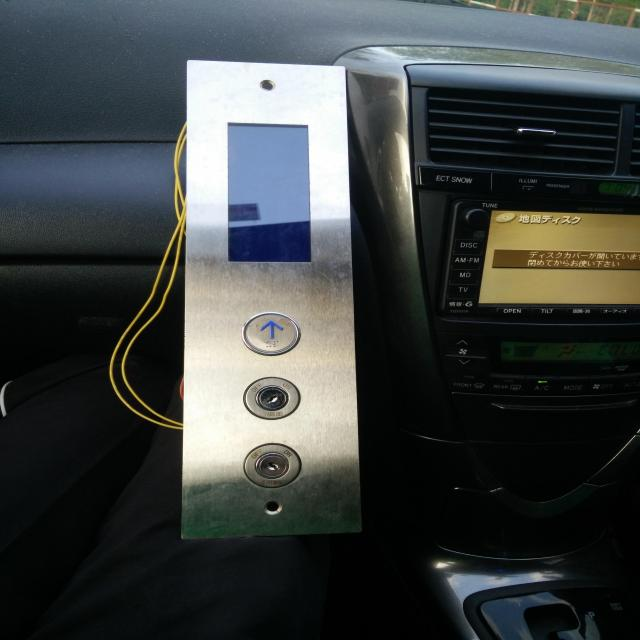keyhole: (241, 440, 303, 490), (242, 375, 303, 420)
led: (224, 119, 313, 267)
up: (241, 310, 300, 358)
